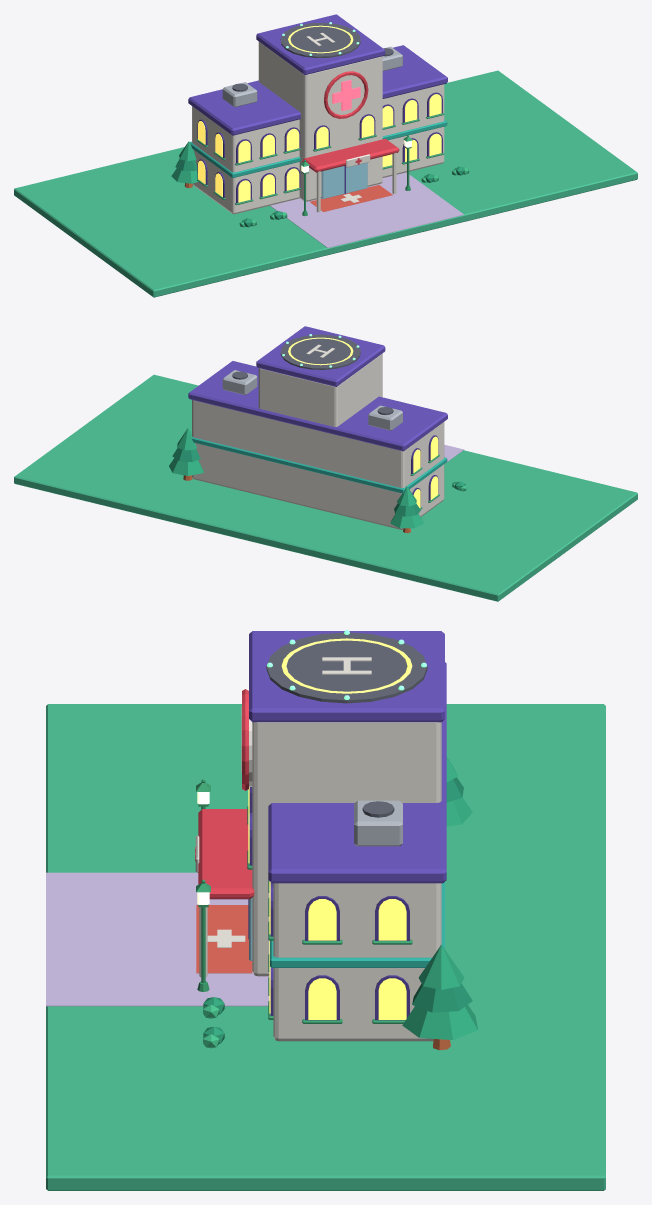
The model's file is bld_hospital.glb.
3 views of the same model, one above another, from view 1: azimuth 30°, elevation 25°; view 2: azimuth 150°, elevation 25°; view 3: azimuth 270°, elevation 25° (orthographic). The views are drawn at different scales.
Visible parts, largest first — view 1: bld_hospital; view 2: bld_hospital; view 3: bld_hospital.
Part boxes in pixels (x1,y1,x2,y2): bld_hospital: [14, 14, 637, 297]; bld_hospital: [14, 326, 637, 601]; bld_hospital: [46, 630, 605, 1190].
Size of the model in its own units: 32 by 9.22 by 16.
